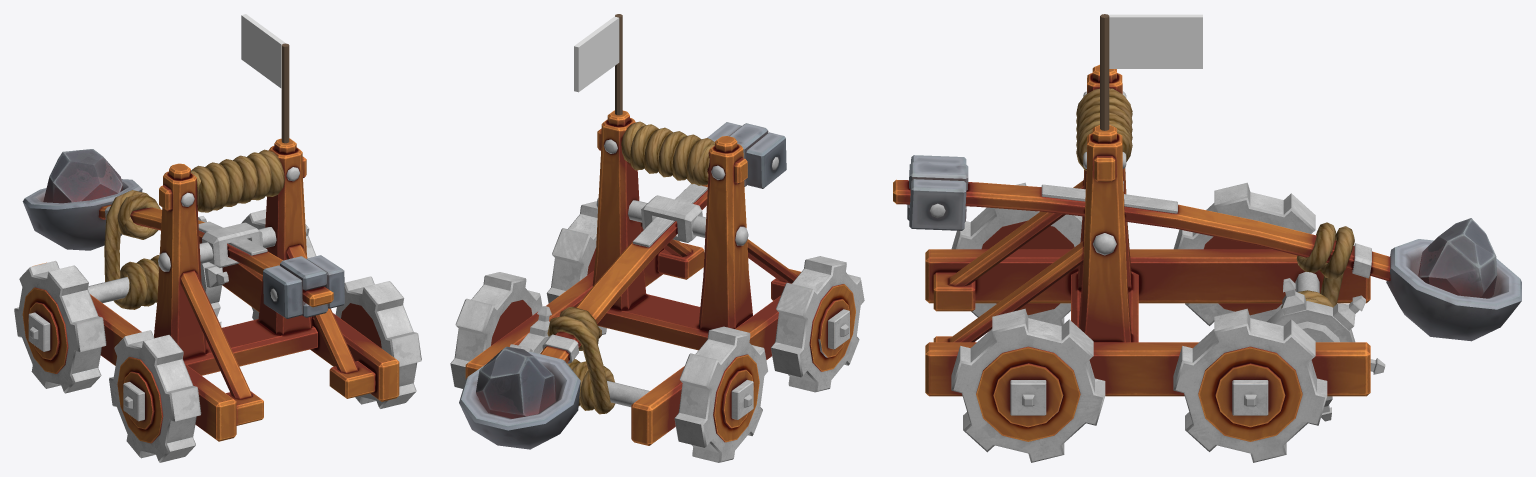
The model's file is siege_engine.glb.
The picture shows the model from 3 angles, left to right: view 1: azimuth 30°, elevation 25°; view 2: azimuth 150°, elevation 25°; view 3: azimuth 270°, elevation 25°; orthographic projection. The views are drawn at different scales.
Parts seen in each view (by area): view 1: Body, Arm, Wheel_RR, Wheel_FR, BodyRope, Wheel_FL, Stone, Flag, ArmRope, Winch, FlagPole, Wheel_RL; view 2: Body, Arm, Wheel_FR, Wheel_RR, BodyRope, Wheel_RL, Stone, Wheel_FL, Flag, ArmRope, Winch, FlagPole; view 3: Body, Arm, Wheel_FL, Wheel_RL, Wheel_RR, Flag, Wheel_FR, Stone, Winch, BodyRope, ArmRope, FlagPole.
Part boxes in pixels (box(x1,y1,x2,y2)): Body: box(32, 138, 399, 441); Arm: box(22, 179, 344, 318); Wheel_RR: box(14, 260, 106, 393); Wheel_FR: box(109, 330, 201, 462); BodyRope: box(104, 149, 284, 309); Wheel_FL: box(335, 276, 421, 408); Stone: box(43, 149, 122, 203); Flag: box(241, 14, 285, 88); ArmRope: box(104, 190, 160, 250); Winch: box(88, 216, 228, 326); FlagPole: box(281, 43, 289, 143); Wheel_RL: box(241, 209, 316, 319); Body: box(465, 110, 800, 445); Arm: box(459, 122, 786, 449); Wheel_FR: box(771, 256, 864, 392); Wheel_RR: box(674, 326, 767, 462); BodyRope: box(567, 121, 714, 414); Wheel_RL: box(450, 272, 542, 388); Stone: box(476, 346, 555, 418); Wheel_FL: box(546, 201, 606, 334); Flag: box(574, 16, 619, 92); ArmRope: box(547, 306, 603, 370); Winch: box(510, 306, 649, 407); FlagPole: box(615, 14, 622, 115); Body: box(925, 64, 1370, 396); Arm: box(893, 155, 1521, 341); Wheel_FL: box(951, 308, 1105, 462); Wheel_RL: box(1173, 308, 1327, 462); Wheel_RR: box(1173, 182, 1315, 325); Flag: box(1109, 14, 1202, 68); Wheel_FR: box(951, 182, 1082, 325); Stone: box(1418, 218, 1497, 298); Winch: box(1267, 272, 1385, 421); BodyRope: box(1076, 88, 1343, 308); ArmRope: box(1296, 222, 1354, 279); FlagPole: box(1100, 14, 1109, 130).
Size of the model in its own units: 1.45 by 1.73 by 2.42.
4 materials, 2 textured.
